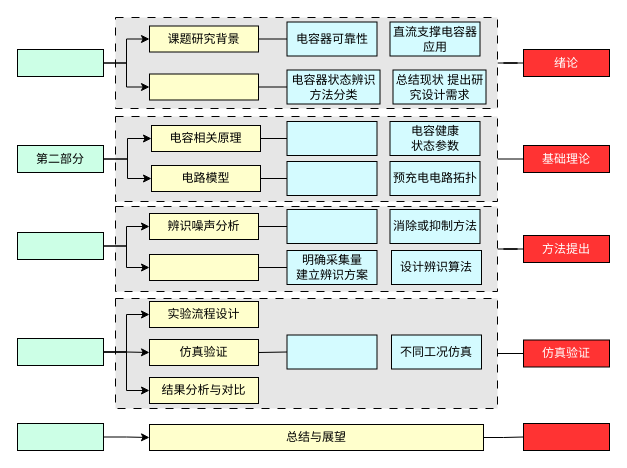
The diagram is 627 pixels wide and 468 high, and some of its shapes have lost their labels. The shapes that lost their labels are listed below. From the top down, each one's centre as x and y in pixels, then its label:
At (x=60, y=62): "第一部分".
At (x=203, y=86): "研究现状综述".
At (x=331, y=138): "DC-link电容分类".
At (x=331, y=178): "DC-link等效模型".
At (x=60, y=246): "第三部分".
At (x=331, y=226): "噪声致因分析".
At (x=203, y=267): "状态辨识方法".
At (x=60, y=352): "第四部分".
At (x=331, y=351): "搭建仿真电路".
At (x=60, y=436): "第五部分".
At (x=566, y=436): "结论".
